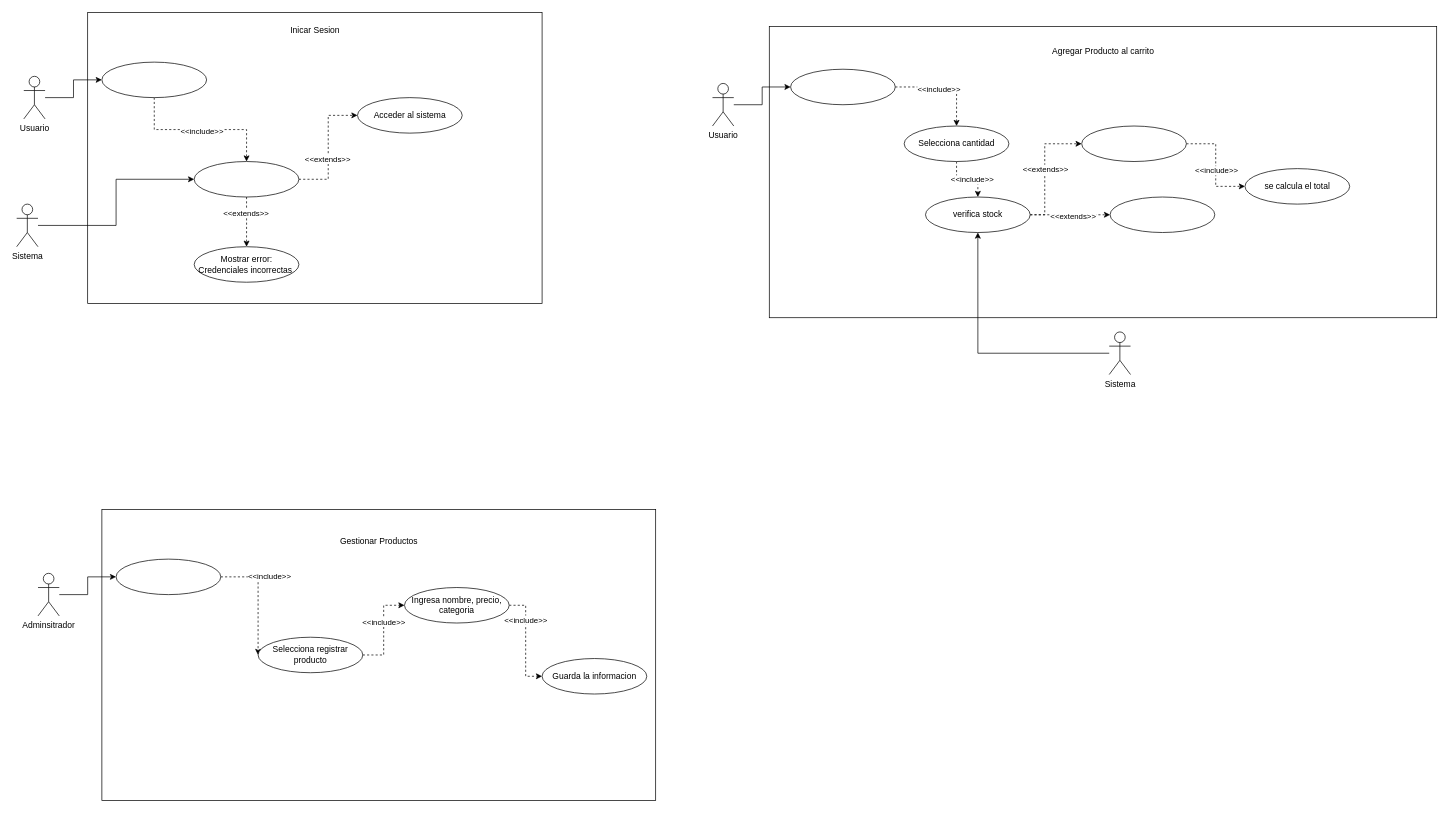
Some shapes in this 1449 by 813 pixel diagram are drawn without their labels. The shapes that lost their labels are listed below. From the top down, each one's centre as x and y in pixels, then its label:
pixel 154 79: Iniciar sesion
pixel 842 87: Selecciona un producto
pixel 1133 143: Producto se agrega al carrito
pixel 246 179: Validar credenciales
pixel 1162 214: muestra error: cantidad insuficiente
pixel 168 576: Accede a modulo de inventario
